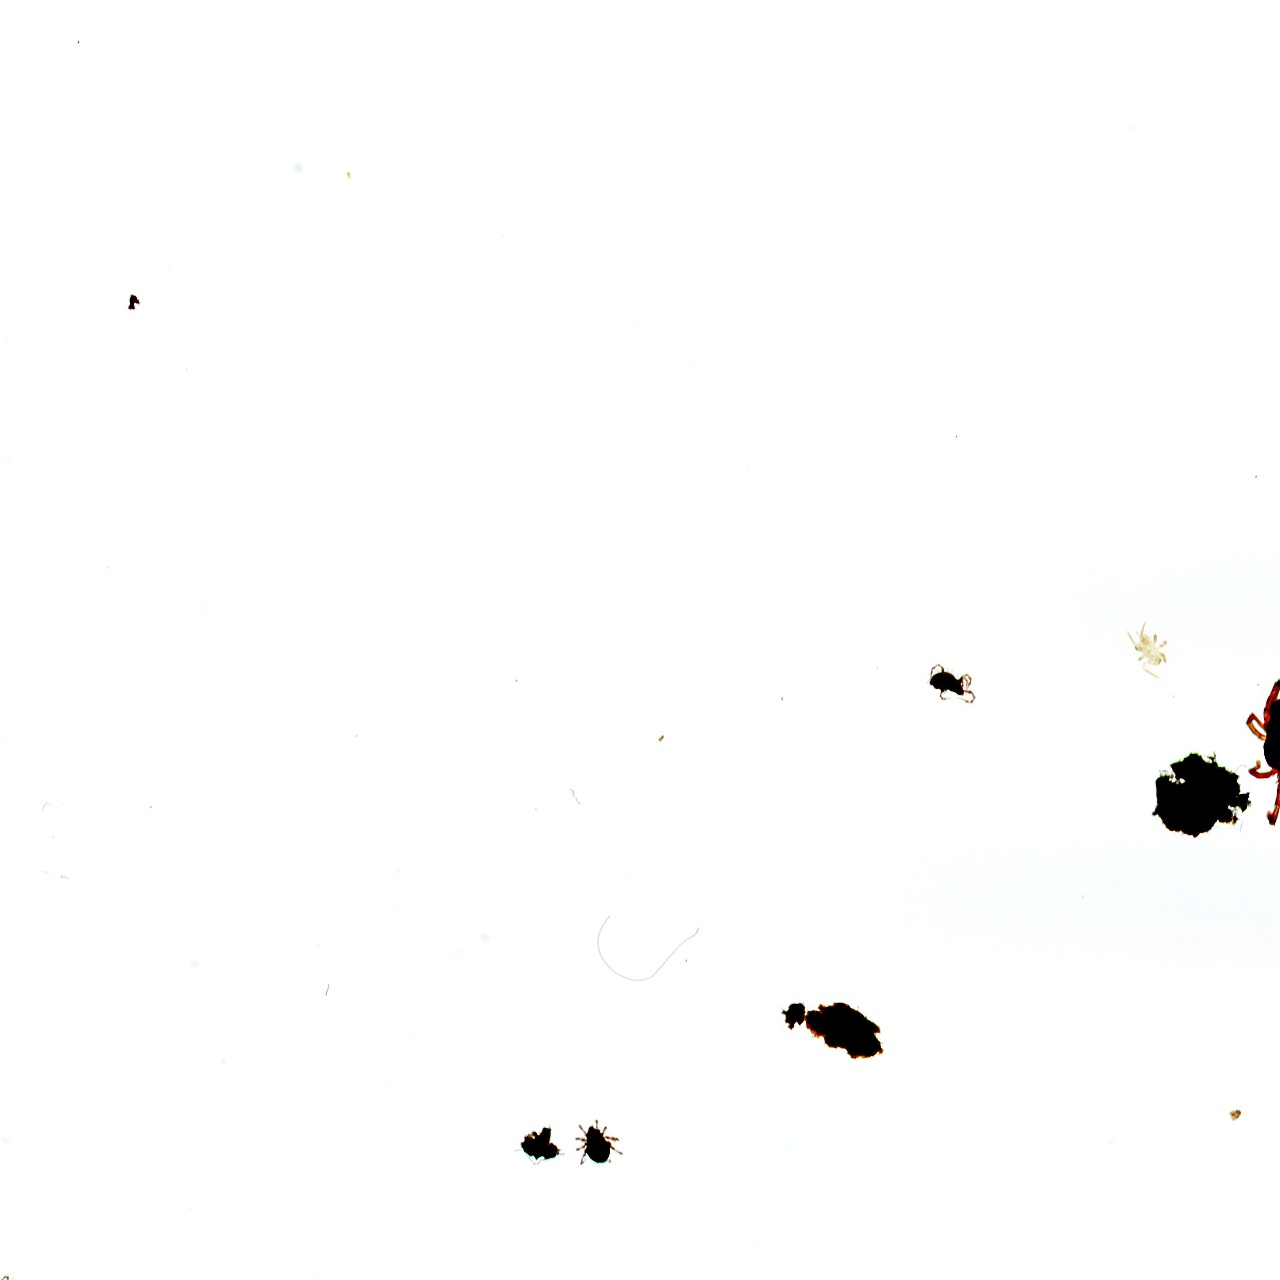arthropod: (1244, 676, 1280, 828), (1118, 613, 1183, 686), (572, 1118, 625, 1169), (926, 662, 976, 706)
